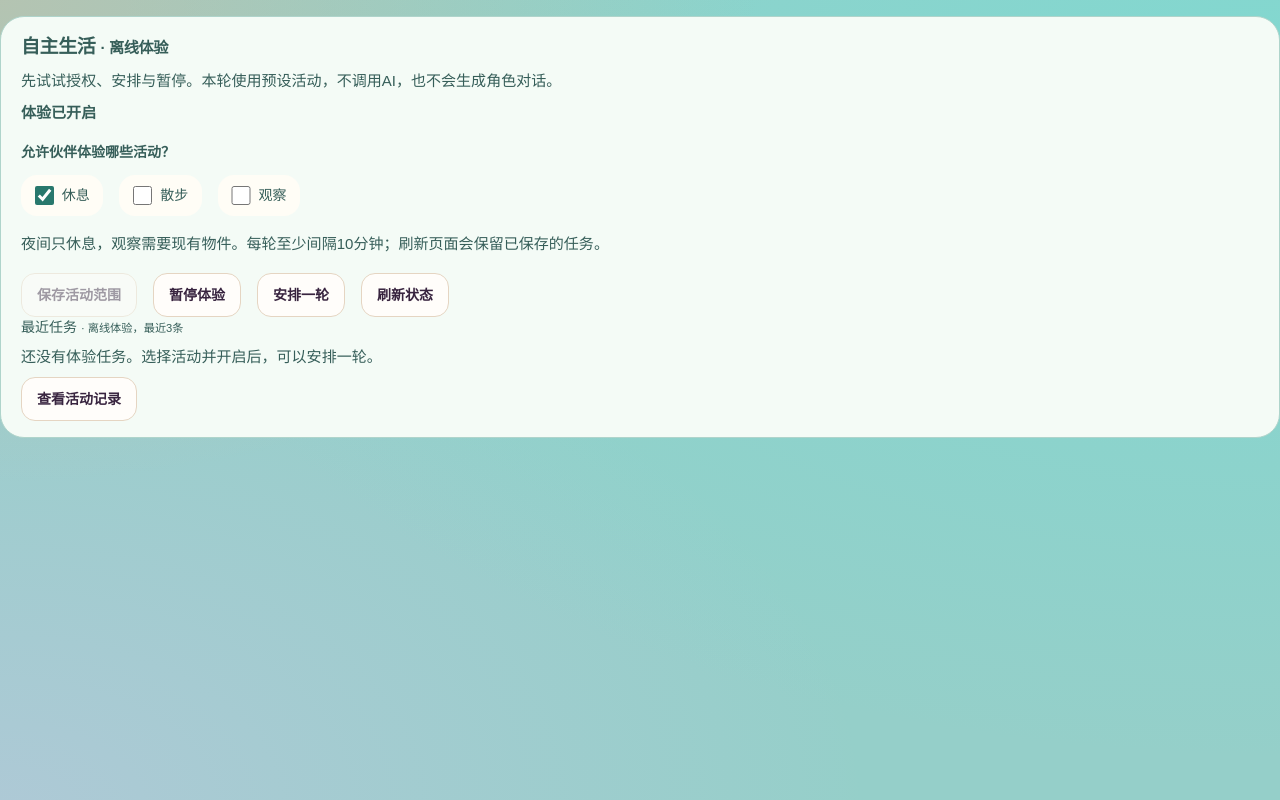
Test: reconciles uncertain writes once and never automatically resubmits
This screenshot has width=1280, height=800.
Check: the text "体验已开启" is shown, box [21,104,96,121]
Click the button "安排一轮" at x=301, y=295, box [257,273,345,317]
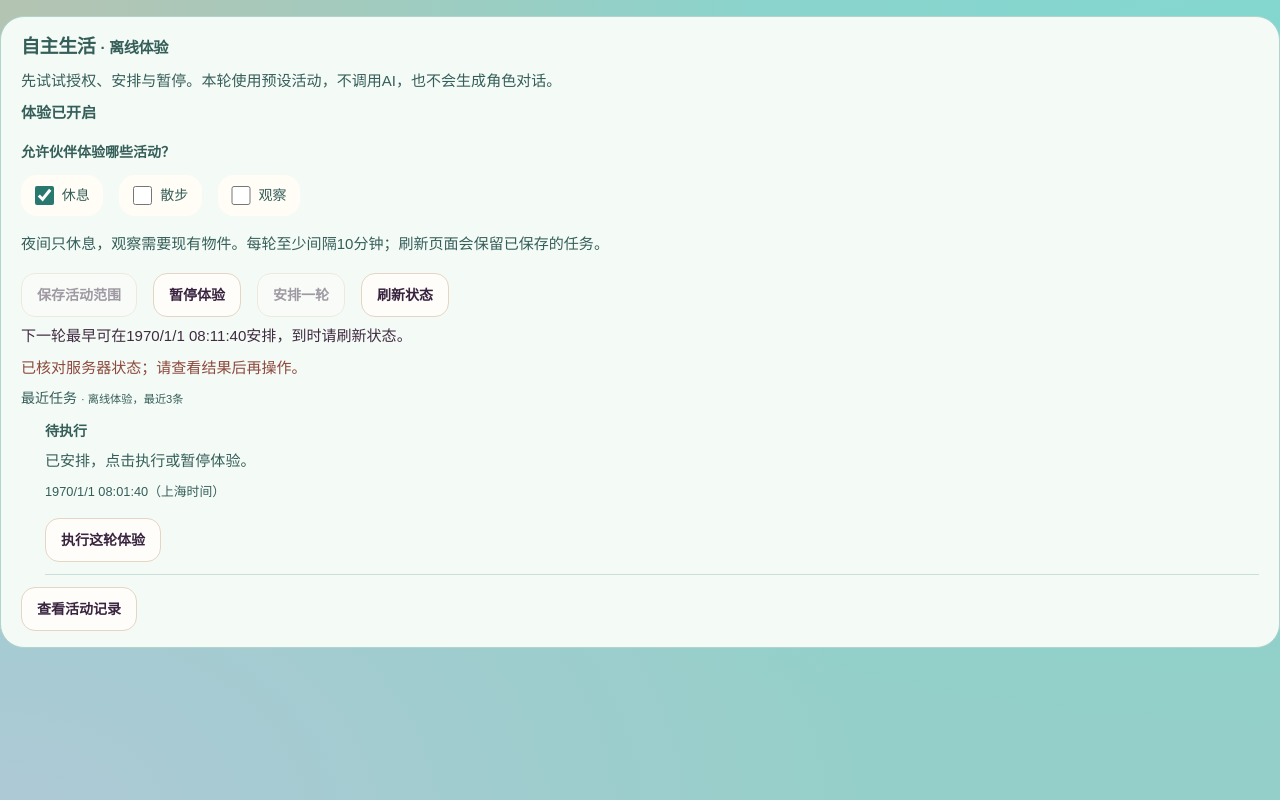
Check: the text "待执行" is shown, box [45,423,87,439]
Check: the message shows "已核对服务器状态", box [21,359,307,376]
